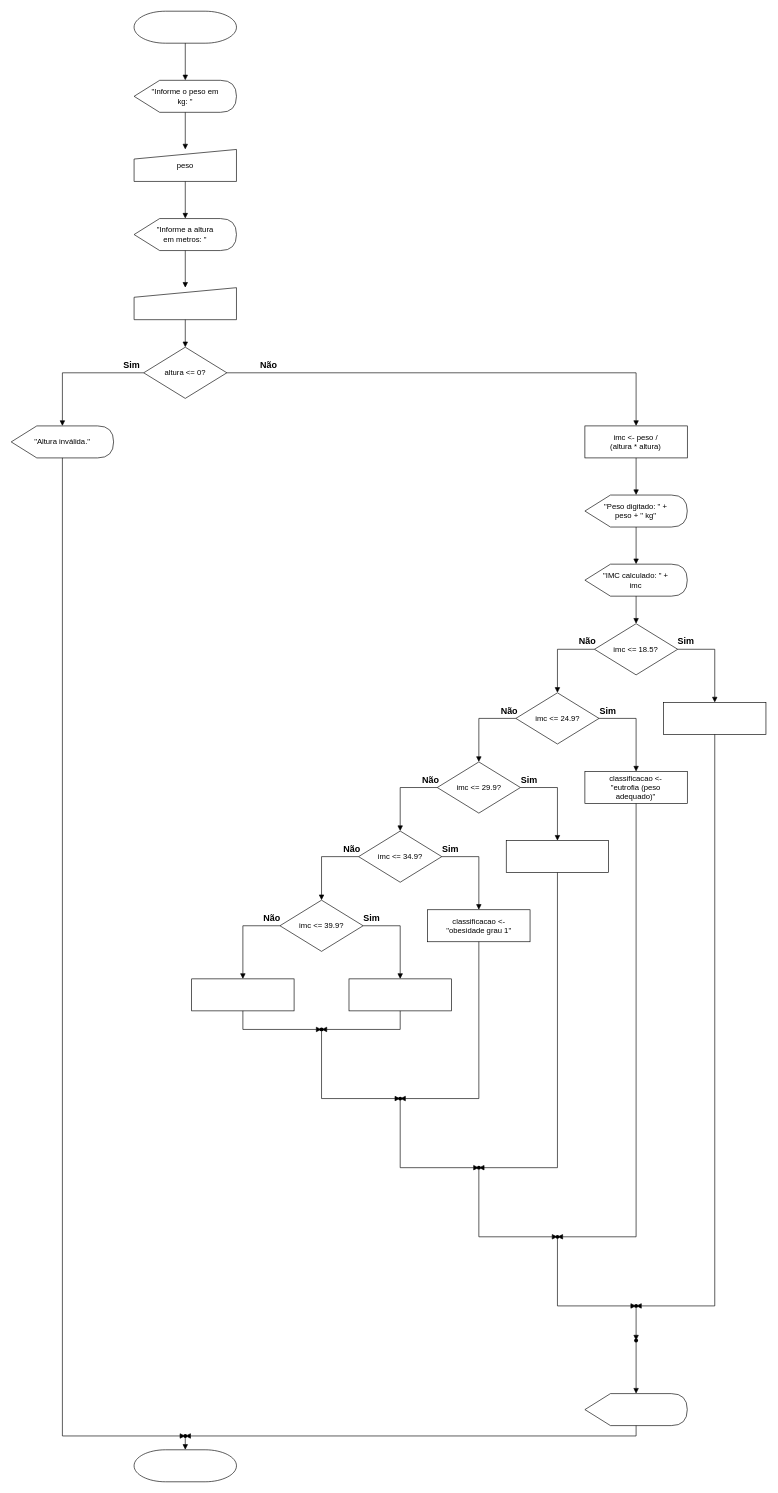
The diagram is 778 pixels wide and 1493 high, and some of its shapes have lost their labels. Each missing label, with the centre of its shape:
"Classificação: " + classificacao: pixel 635 1409
altura: pixel 184 303
classificacao <- "baixo peso": pixel 714 718
classificacao <- "obesidade extrema": pixel 242 994
classificacao <- "obesidade grau 2": pixel 399 994
classificacao <- "sobrepeso": pixel 557 856
Fim: pixel 184 1465
Início: pixel 184 27
